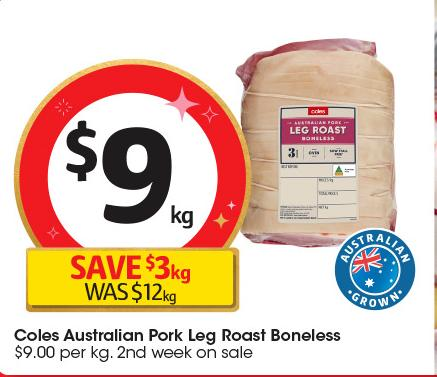description_block: (7, 321, 363, 346)
price_main: (24, 66, 235, 251)
product_image_block: (229, 39, 415, 255)
promo_text_block: (14, 245, 251, 317)
unit_price_block: (4, 336, 115, 368)
